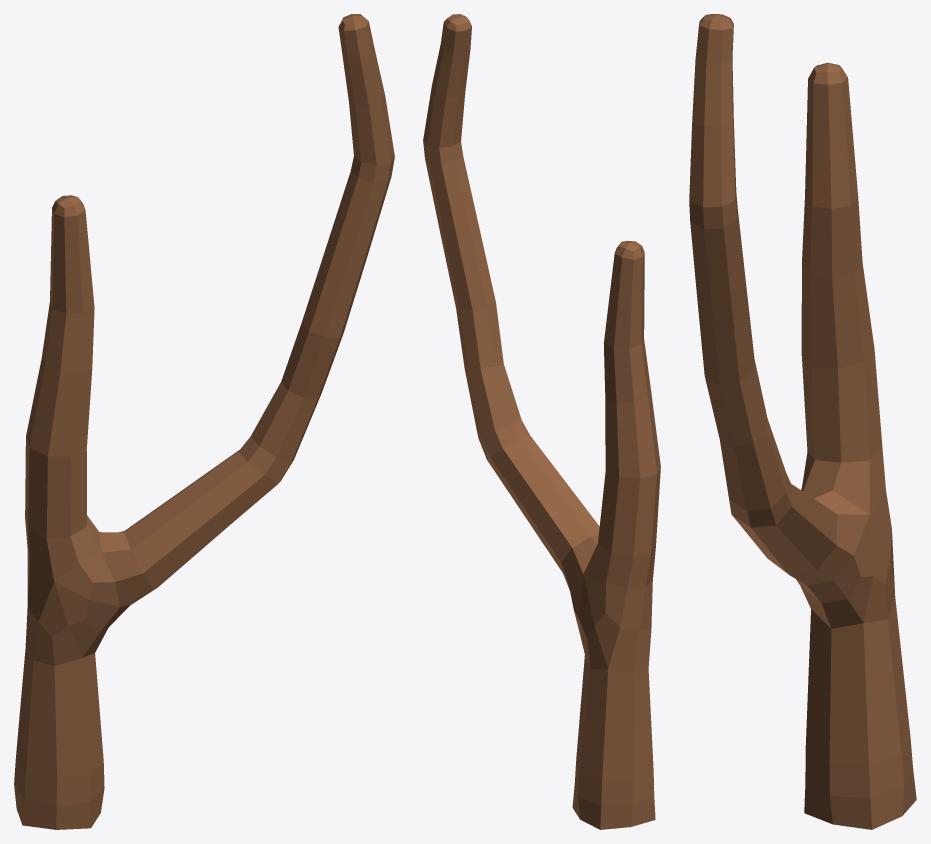
The model's file is tree-dead-trunk-12-036.glb.
3 views of the same model, side by side, from view 1: azimuth 30°, elevation 25°; view 2: azimuth 150°, elevation 25°; view 3: azimuth 270°, elevation 25° (orthographic). The views are drawn at different scales.
Visible parts, largest first — view 1: TREE 12.006_502; view 2: TREE 12.006_502; view 3: TREE 12.006_502.
Part boxes in pixels (<box>): TREE 12.006_502: <box>14,14,394,829</box>; TREE 12.006_502: <box>423,14,660,829</box>; TREE 12.006_502: <box>689,14,916,829</box>.
Size of the model in its own units: 0.5095 by 1.23 by 0.2723.
